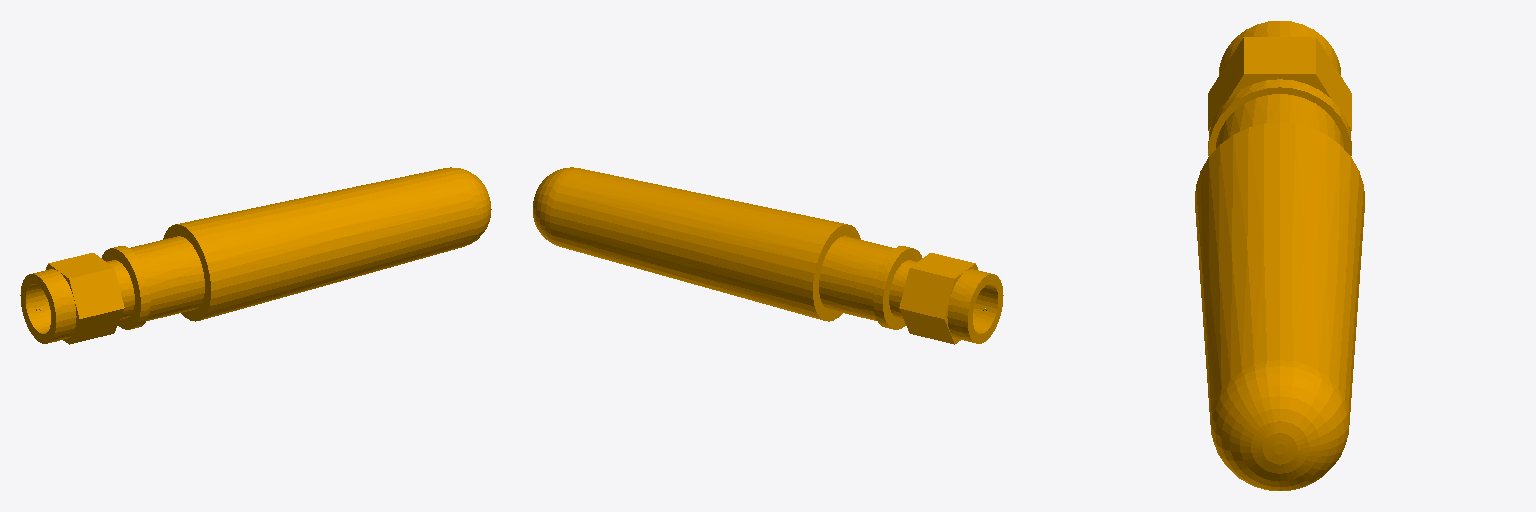
The robot description file, URDF, robot "leo":
<?xml version="1.0" ?>
<!-- =================================================================================== -->
<!-- |    This document was autogenerated by xacro from leo_temp.urdf.xacro            | -->
<!-- |    EDITING THIS FILE BY HAND IS NOT RECOMMENDED                                 | -->
<!-- =================================================================================== -->
<robot name="leo">
  <!-- LEO GAZEBO -->
  <link name="base_footprint"/>
  <link name="base_link">
    <inertial>
      <mass value="1.584994"/>
      <origin xyz="-0.019662 0.011643 -0.031802"/>
      <inertia ixx="0.01042" ixy="0.001177" ixz="-0.0008871" iyy="0.01045" iyz="0.0002226" izz="0.01817"/>
    </inertial>
    <visual>
      <geometry>
        <mesh filename="package://leo_description/models/Chassis.stl"/>
      </geometry>
    </visual>
    <collision>
      <geometry>
        <mesh filename="package://leo_description/models/Chassis_outline.stl"/>
      </geometry>
    </collision>
  </link>
  <link name="rocker_L_link">
    <inertial>
      <mass value="1.387336"/>
      <origin xyz="0 0.01346 -0.06506"/>
      <inertia ixx="0.002956" ixy="-0.000001489324" ixz="-0.000008103407" iyy="0.02924" iyz="0.00007112" izz="0.02832"/>
    </inertial>
    <visual>
      <geometry>
        <mesh filename="package://leo_description/models/Rocker.stl"/>
      </geometry>
    </visual>
    <collision>
      <geometry>
        <mesh filename="package://leo_description/models/Rocker_outline.stl"/>
      </geometry>
    </collision>
  </link>
  <link name="rocker_R_link">
    <inertial>
      <mass value="1.387336"/>
      <origin xyz="0 0.01346 -0.06506"/>
      <inertia ixx="0.002956" ixy="-0.000001489324" ixz="-0.000008103407" iyy="0.02924" iyz="0.00007112" izz="0.02832"/>
    </inertial>
    <visual>
      <geometry>
        <mesh filename="package://leo_description/models/Rocker.stl"/>
      </geometry>
    </visual>
    <collision>
      <geometry>
        <mesh filename="package://leo_description/models/Rocker_outline.stl"/>
      </geometry>
    </collision>
  </link>
  <link name="wheel_FL_link">
    <inertial>
      <mass value="0.283642"/>
      <origin xyz="0 0.030026 0"/>
      <inertia ixx="0.000391" ixy="0.00000123962" ixz="5.52582e-7" iyy="0.0004716" iyz="-0.000002082042" izz="0.000391"/>
    </inertial>
    <visual>
      <geometry>
        <mesh filename="package://leo_description/models/WheelA.stl"/>
      </geometry>
    </visual>
    <collision>
      <origin rpy="1.5707963267948966 0 0" xyz="0 0.04485 0"/>
      <geometry>
        <cylinder length="0.07" radius="0.057"/>
      </geometry>
    </collision>
    <collision>
      <origin rpy="1.5707963267948966 0 0" xyz="0 0.04485 0"/>
      <geometry>
        <cylinder length="0.04" radius="0.0625"/>
      </geometry>
    </collision>
    <collision>
      <geometry>
        <mesh filename="package://leo_description/models/Wheel_outline.stl"/>
      </geometry>
    </collision>
  </link>
  <link name="wheel_RL_link">
    <inertial>
      <mass value="0.283642"/>
      <origin xyz="0 0.030026 0"/>
      <inertia ixx="0.000391" ixy="0.00000123962" ixz="5.52582e-7" iyy="0.0004716" iyz="-0.000002082042" izz="0.000391"/>
    </inertial>
    <visual>
      <geometry>
        <mesh filename="package://leo_description/models/WheelA.stl"/>
      </geometry>
    </visual>
    <collision>
      <origin rpy="1.5707963267948966 0 0" xyz="0 0.04485 0"/>
      <geometry>
        <cylinder length="0.07" radius="0.057"/>
      </geometry>
    </collision>
    <collision>
      <origin rpy="1.5707963267948966 0 0" xyz="0 0.04485 0"/>
      <geometry>
        <cylinder length="0.04" radius="0.0625"/>
      </geometry>
    </collision>
    <collision>
      <geometry>
        <mesh filename="package://leo_description/models/Wheel_outline.stl"/>
      </geometry>
    </collision>
  </link>
  <link name="wheel_FR_link">
    <inertial>
      <mass value="0.283642"/>
      <origin xyz="0 0.030026 0"/>
      <inertia ixx="0.000391" ixy="0.00000123962" ixz="5.52582e-7" iyy="0.0004716" iyz="-0.000002082042" izz="0.000391"/>
    </inertial>
    <visual>
      <geometry>
        <mesh filename="package://leo_description/models/WheelB.stl"/>
      </geometry>
    </visual>
    <collision>
      <origin rpy="1.5707963267948966 0 0" xyz="0 0.04485 0"/>
      <geometry>
        <cylinder length="0.07" radius="0.057"/>
      </geometry>
    </collision>
    <collision>
      <origin rpy="1.5707963267948966 0 0" xyz="0 0.04485 0"/>
      <geometry>
        <cylinder length="0.04" radius="0.0625"/>
      </geometry>
    </collision>
    <collision>
      <geometry>
        <mesh filename="package://leo_description/models/Wheel_outline.stl"/>
      </geometry>
    </collision>
  </link>
  <link name="wheel_RR_link">
    <inertial>
      <mass value="0.283642"/>
      <origin xyz="0 0.030026 0"/>
      <inertia ixx="0.000391" ixy="0.00000123962" ixz="5.52582e-7" iyy="0.0004716" iyz="-0.000002082042" izz="0.000391"/>
    </inertial>
    <visual>
      <geometry>
        <mesh filename="package://leo_description/models/WheelB.stl"/>
      </geometry>
    </visual>
    <collision>
      <origin rpy="1.5707963267948966 0 0" xyz="0 0.04485 0"/>
      <geometry>
        <cylinder length="0.07" radius="0.057"/>
      </geometry>
    </collision>
    <collision>
      <origin rpy="1.5707963267948966 0 0" xyz="0 0.04485 0"/>
      <geometry>
        <cylinder length="0.04" radius="0.0625"/>
      </geometry>
    </collision>
    <collision>
      <geometry>
        <mesh filename="package://leo_description/models/Wheel_outline.stl"/>
      </geometry>
    </collision>
  </link>
  <link name="antenna_link">
    <inertial>
      <mass value="0.001237"/>
      <origin xyz="0 0 0.028828"/>
      <inertia ixx="2.5529e-7" ixy="0.0" ixz="0.0" iyy="2.5529e-7" iyz="0.0" izz="1.354e-8"/>
    </inertial>
    <visual>
      <geometry>
        <mesh filename="package://leo_description/models/Antenna.stl"/>
      </geometry>
    </visual>
    <collision>
      <origin xyz="0 0 0.028"/>
      <geometry>
        <cylinder length="0.056" radius="0.0055"/>
      </geometry>
    </collision>
  </link>
  <link name="camera_frame"/>
  <link name="camera_optical_frame"/>
  <link name="imu_frame"/>
  <!-- JOINTS -->
  <joint name="base_joint" type="fixed">
    <origin rpy="0 0 0" xyz="0 0 0.19783"/>
    <parent link="base_footprint"/>
    <child link="base_link"/>
  </joint>
  <joint name="rocker_L_joint" type="fixed">
    <origin rpy="0 0 3.141592653589793" xyz="0.00263 0.14167 -0.04731"/>
    <parent link="base_link"/>
    <child link="rocker_L_link"/>
    <axis xyz="0 1 0"/>
    <limit effort="100.0" lower="-0.24" upper="0.24" velocity="100.0"/>
    <dynamics damping="0.1" friction="1.0"/>
  </joint>
  <joint name="rocker_R_joint" type="fixed">
    <origin rpy="0 0 0" xyz="0.00263 -0.14167 -0.04731"/>
    <parent link="base_link"/>
    <child link="rocker_R_link"/>
    <axis xyz="0 1 0"/>
    <limit effort="100.0" lower="-0.24" upper="0.24" velocity="100.0"/>
    <dynamics damping="0.1" friction="1.0"/>
    <mimic joint="rocker_L_joint"/>
  </joint>
  <joint name="wheel_FL_joint" type="continuous">
    <origin rpy="0 0 0" xyz="-0.15256 -0.08214 -0.08802"/>
    <parent link="rocker_L_link"/>
    <child link="wheel_FL_link"/>
    <axis xyz="0 -1 0"/>
    <limit effort="2.0" velocity="6.0"/>
    <dynamics damping="0.1" friction="0.3125"/>
  </joint>
  <joint name="wheel_RL_joint" type="continuous">
    <origin rpy="0 0 0" xyz="0.15256 -0.08214 -0.08802"/>
    <parent link="rocker_L_link"/>
    <child link="wheel_RL_link"/>
    <axis xyz="0 -1 0"/>
    <limit effort="2.0" velocity="6.0"/>
    <dynamics damping="0.1" friction="0.3125"/>
  </joint>
  <joint name="wheel_FR_joint" type="continuous">
    <origin rpy="0 0 0" xyz="0.15256 -0.08214 -0.08802"/>
    <parent link="rocker_R_link"/>
    <child link="wheel_FR_link"/>
    <axis xyz="0 1 0"/>
    <limit effort="2.0" velocity="6.0"/>
    <dynamics damping="0.1" friction="0.3125"/>
  </joint>
  <joint name="wheel_RR_joint" type="continuous">
    <origin rpy="0 0 0" xyz="-0.15256 -0.08214 -0.08802"/>
    <parent link="rocker_R_link"/>
    <child link="wheel_RR_link"/>
    <axis xyz="0 1 0"/>
    <limit effort="2.0" velocity="6.0"/>
    <dynamics damping="0.1" friction="0.3125"/>
  </joint>
  <joint name="antenna_joint" type="fixed">
    <origin rpy="0 0 0" xyz="-0.0052 0.056 -0.0065"/>
    <parent link="base_link"/>
    <child link="antenna_link"/>
  </joint>
  <joint name="camera_joint" type="fixed">
    <origin rpy="0 0.2094 0" xyz="0.0971 0 -0.0427"/>
    <parent link="base_link"/>
    <child link="camera_frame"/>
  </joint>
  <joint name="camera_optical_joint" type="fixed">
    <origin rpy="-1.5707963267948966 0.0 -1.5707963267948966" xyz="0 0 0"/>
    <parent link="camera_frame"/>
    <child link="camera_optical_frame"/>
  </joint>
  <joint name="imu_joint" type="fixed">
    <origin rpy="0 0 0" xyz="0.0628 -0.0314 -0.0393"/>
    <parent link="base_link"/>
    <child link="imu_frame"/>
  </joint>
</robot>

--- Facts derived from the render (not from the file) ---
The picture shows the robot from 3 angles, left to right: view 1: azimuth 30°, elevation 25°; view 2: azimuth 150°, elevation 25°; view 3: azimuth 270°, elevation 25°; orthographic projection.
Robot: leo — 12 links, 11 joints (4 continuous, 7 fixed); root link base_footprint; default pose: all joints at 0.
Links seen in each view (by area): view 1: antenna_link; view 2: antenna_link; view 3: antenna_link.
Link boxes in pixels (left/top/right/bottom): antenna_link: left=20, top=167, right=491, bottom=344; antenna_link: left=533, top=167, right=1003, bottom=344; antenna_link: left=1195, top=21, right=1364, bottom=490.
Bounding box of the posed robot: 55.51 × 10.7 × 10.7 m (x, y, z).
7 mesh visuals loaded from 5 distinct referenced files (4 binary STL); not drawn: 1 (reference not matched to a file when rendering).
